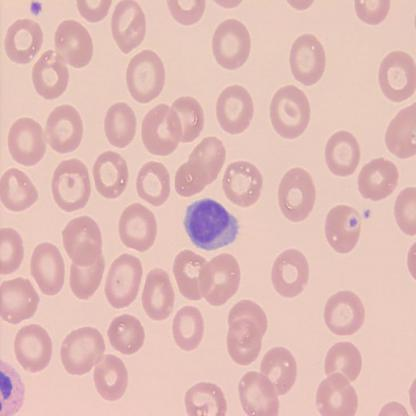Lymphocyte: (183, 196, 239, 252)
